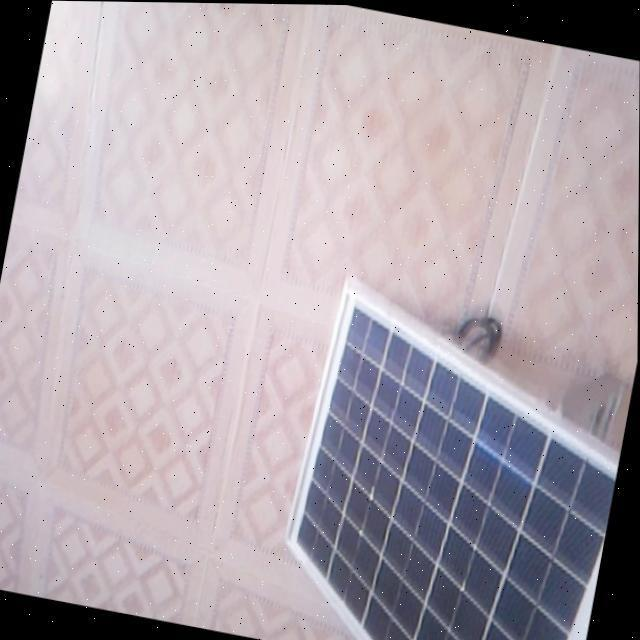Normal Solar Panel: (268, 273, 638, 640)
